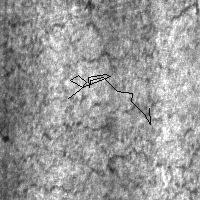crazing: (1, 105, 198, 194), (1, 20, 152, 76), (68, 74, 150, 124)
